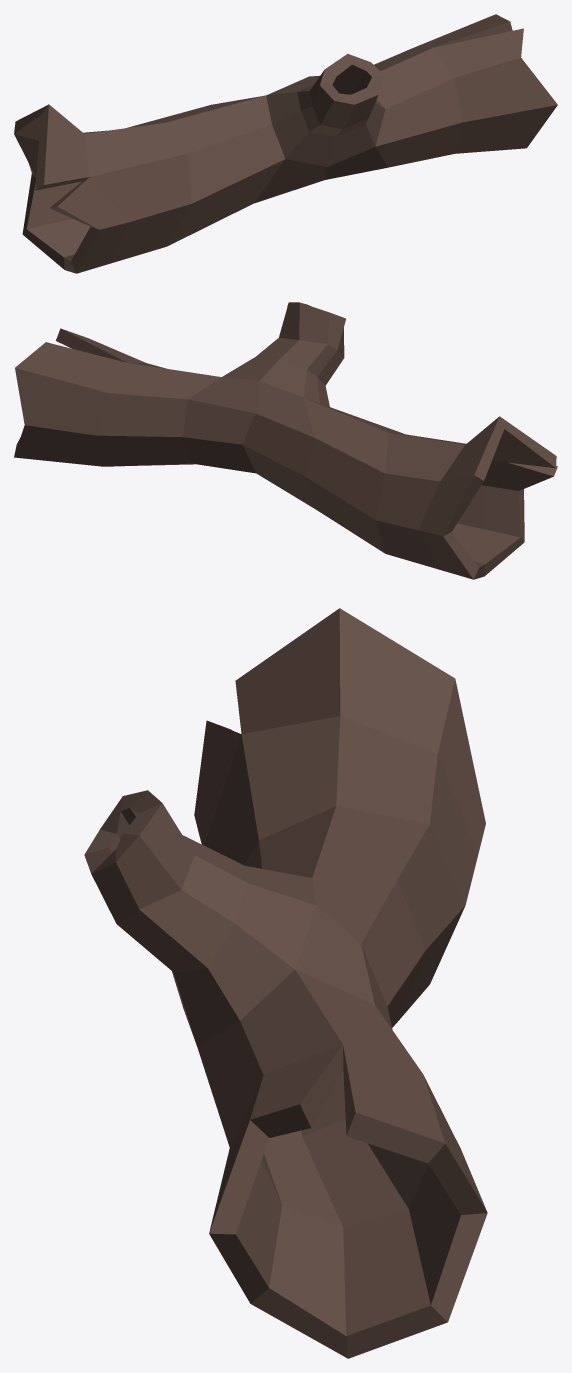
The model's file is Hollow_Tree_Big.fbx.
3 renders of one model, top to bottom at view 1: azimuth 30°, elevation 25°; view 2: azimuth 150°, elevation 25°; view 3: azimuth 270°, elevation 25°, orthographic. The views are drawn at different scales.
Parts seen in each view (by area): view 1: Hollow Tree; view 2: Hollow Tree; view 3: Hollow Tree.
Boxes of the visible parts, bbox=[...] form: Hollow Tree: bbox=[14, 14, 557, 273]; Hollow Tree: bbox=[14, 302, 557, 579]; Hollow Tree: bbox=[84, 608, 487, 1358].
Size of the model in its own units: 384 by 138 by 135.
